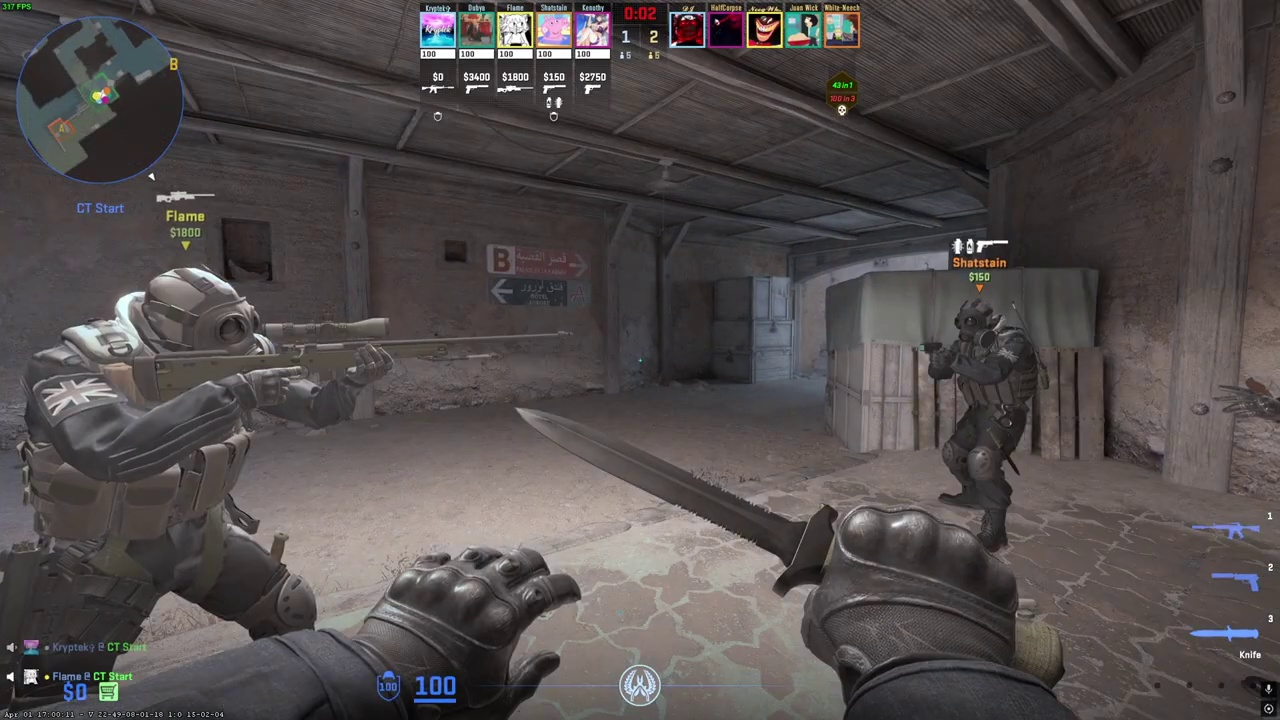CT: (11, 263, 323, 711), (930, 298, 1039, 549)
